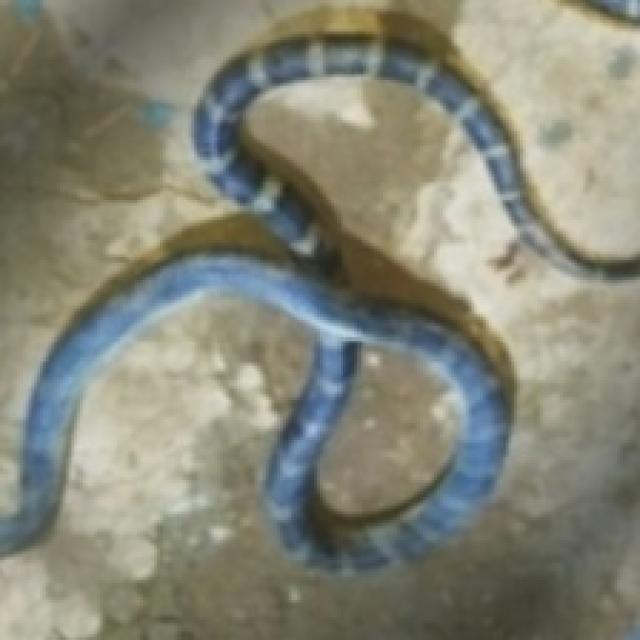king cobra: (0, 77, 637, 637), (0, 0, 309, 509), (409, 0, 637, 249), (323, 349, 451, 506)
